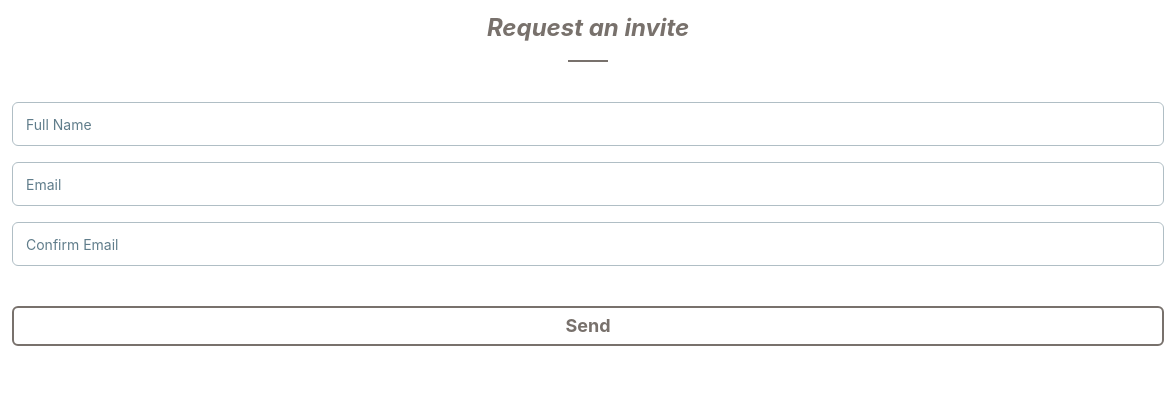
Test: should display full name input field over 35 characters validation
The width and height of the screenshot is (1176, 395).
Type "asdfasdfasdfasdfasdfasdfadsfasdfasdf" into the field with test id "input-full-name" at (588, 124), box top-left (12, 102), bottom-right (1164, 146)
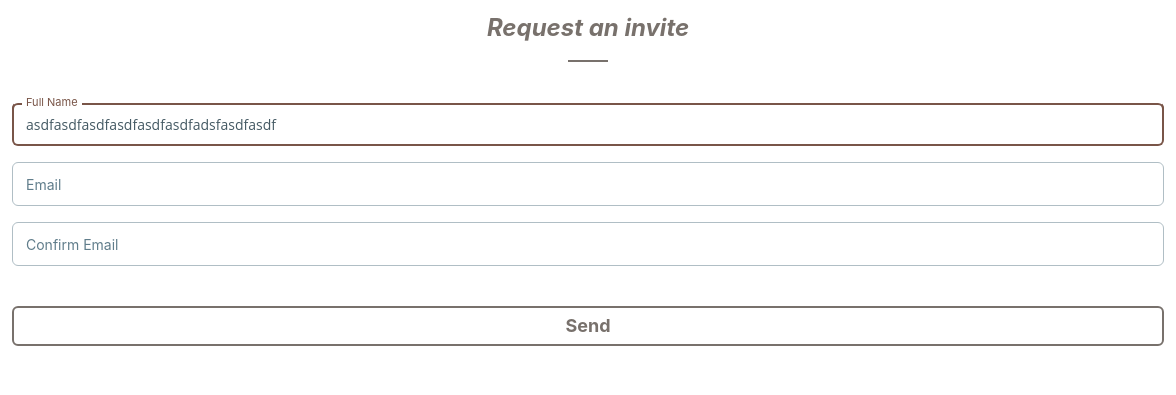
Press Tab
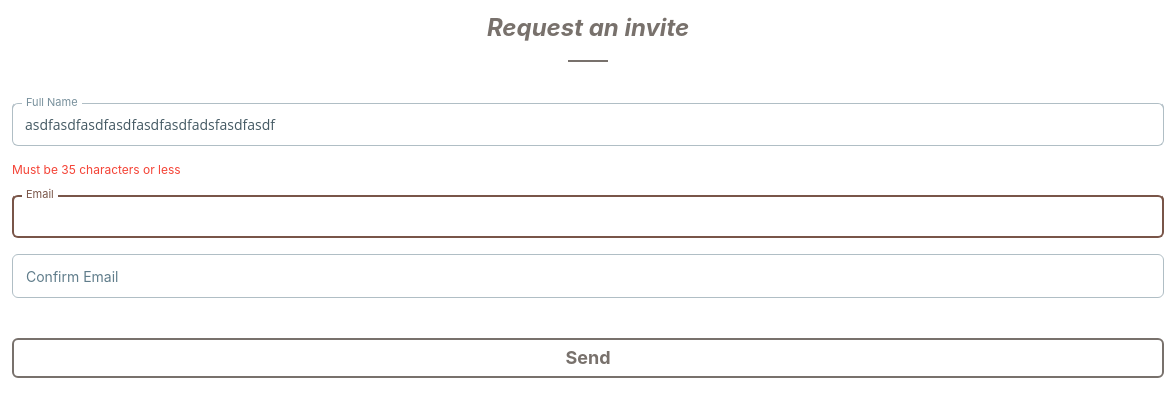
expect the text with test id "error-message" reads "Must be 35 characters or less": met, box top-left (12, 162), bottom-right (181, 177)
